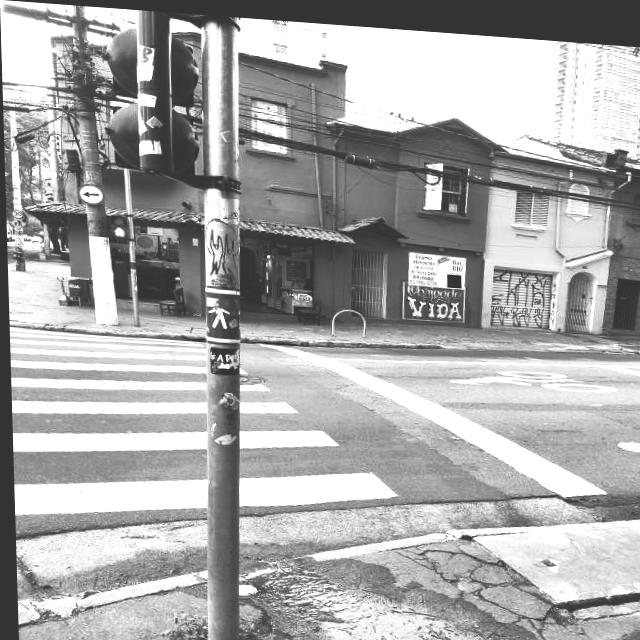qr_code: (446, 268, 460, 281)
